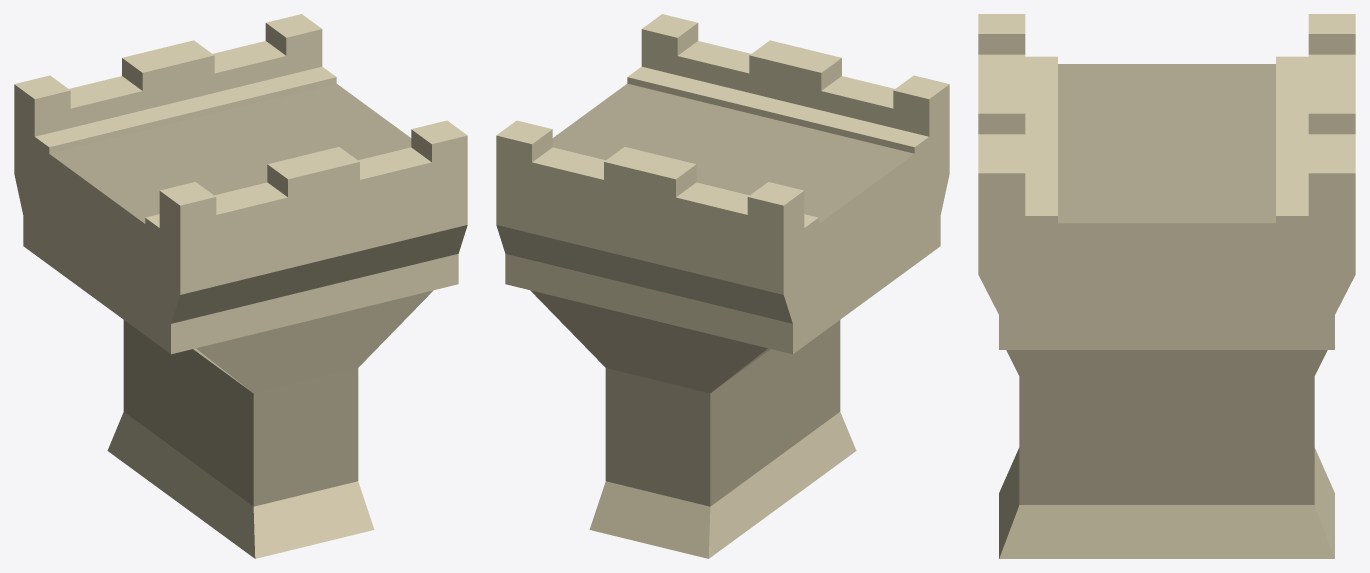
File: bridgeStraightPole_exclusive.fbx
3 views of the same model, side by side, from view 1: azimuth 30°, elevation 25°; view 2: azimuth 150°, elevation 25°; view 3: azimuth 270°, elevation 25° (orthographic). The views are drawn at different scales.
Visible parts, largest first — view 1: bridgeStraightPole_exclusive; view 2: bridgeStraightPole_exclusive; view 3: bridgeStraightPole_exclusive.
Part boxes in pixels (bbox=[...]): bridgeStraightPole_exclusive: bbox=[14, 14, 467, 558]; bridgeStraightPole_exclusive: bbox=[496, 14, 949, 558]; bridgeStraightPole_exclusive: bbox=[978, 14, 1355, 558].
Bounding box in the file's own units: 9.3 × 11.76 × 9.3.
